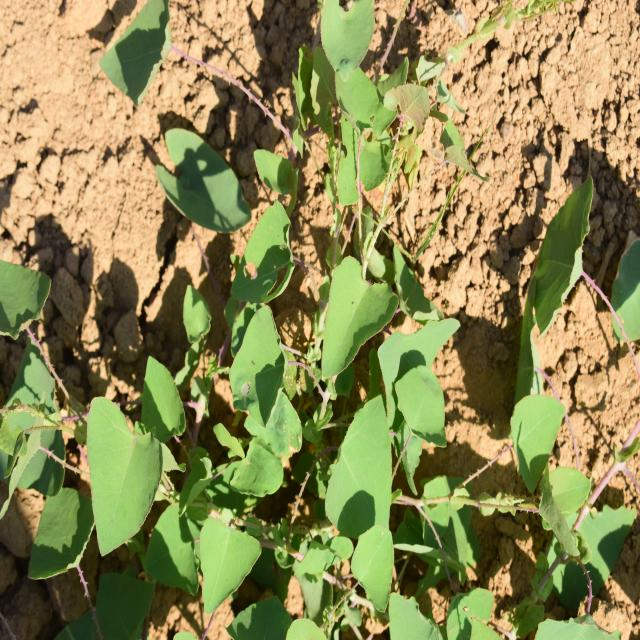Asiatic_Smartweed: (79, 343, 208, 578), (218, 204, 324, 475), (0, 285, 92, 585), (300, 231, 471, 390), (326, 38, 457, 243), (331, 377, 450, 600), (498, 391, 604, 578), (523, 174, 607, 365)
